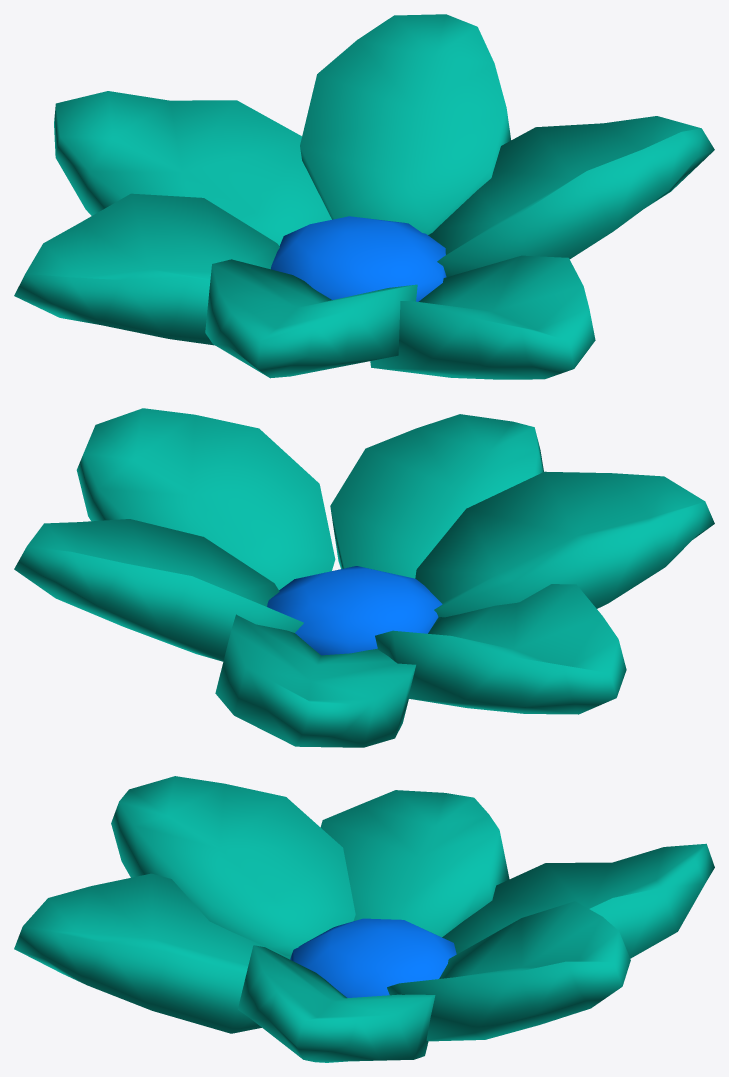
The model's file is CS_BlueFlower.fbx.
3 renders of one model, top to bottom at view 1: azimuth 30°, elevation 25°; view 2: azimuth 150°, elevation 25°; view 3: azimuth 270°, elevation 25°, orthographic. The views are drawn at different scales.
Parts seen in each view (by area): view 1: BlueFlower; view 2: BlueFlower; view 3: BlueFlower.
Boxes of the visible parts, x1,y1,x2,y2 form: BlueFlower: (14,14,714,379); BlueFlower: (14,408,714,747); BlueFlower: (14,776,714,1062).
Bounding box in the file's own units: 47.52 × 12.92 × 48.98.
